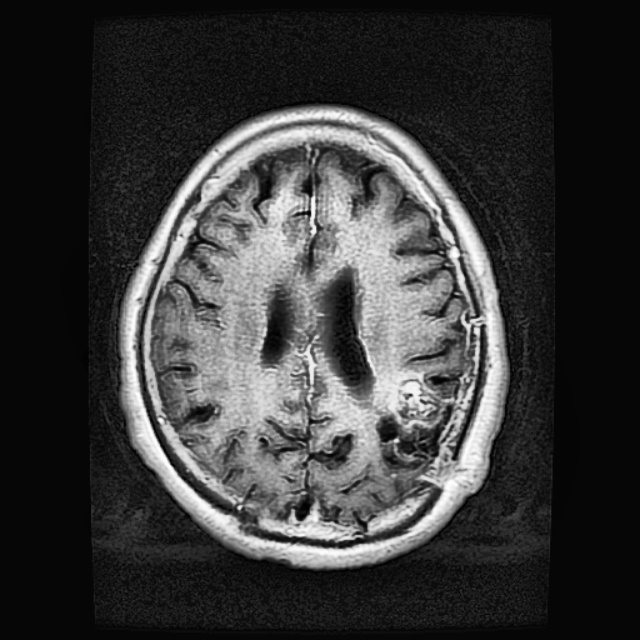Glioma: (374, 365, 455, 469)
